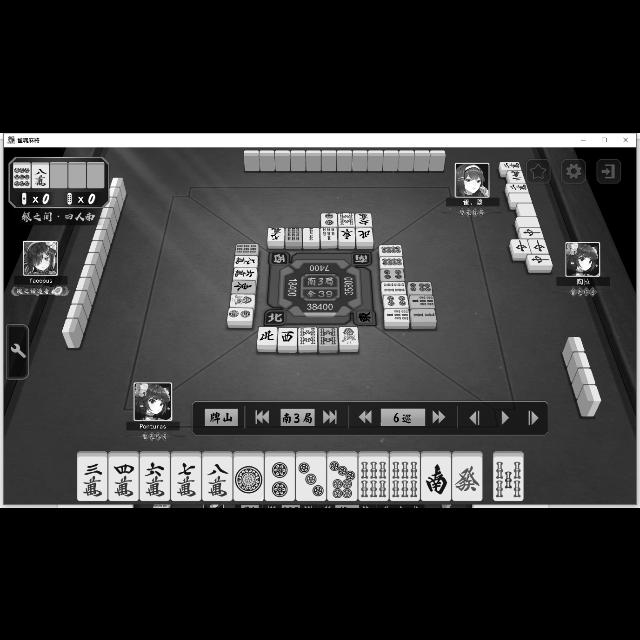1p: (234, 456, 264, 500)
1s: (340, 326, 358, 344), (229, 294, 255, 306)
2m: (505, 182, 529, 192), (506, 170, 526, 182), (500, 161, 522, 169)
2p: (265, 457, 295, 501), (227, 306, 253, 320), (320, 212, 338, 225)
2s: (410, 309, 436, 321), (303, 228, 319, 240)
3m: (77, 456, 107, 499)
3p: (296, 456, 326, 499)
4m: (108, 456, 138, 500)
4p: (384, 294, 408, 308), (381, 268, 405, 280)
4s: (380, 281, 406, 293)
5s: (494, 456, 524, 500)
6m: (140, 456, 170, 499), (232, 268, 258, 278), (355, 212, 373, 225)
6p: (408, 281, 432, 293)
6s: (390, 456, 420, 502), (358, 456, 388, 500)
7m: (170, 456, 202, 500)
7p: (328, 456, 358, 500)
7s: (384, 308, 410, 322), (410, 295, 434, 307), (321, 226, 337, 240)
8m: (202, 456, 232, 499), (32, 164, 49, 186)
8p: (381, 255, 404, 267), (379, 243, 403, 254)
8s: (318, 327, 338, 345), (298, 328, 318, 344), (338, 212, 354, 226)
9m: (234, 254, 256, 266), (268, 226, 284, 240)
9p: (13, 163, 29, 187)
9s: (236, 242, 258, 254), (286, 227, 302, 241)
chun: (528, 238, 548, 254), (519, 226, 545, 238), (527, 253, 553, 264), (510, 239, 530, 253)
haku: (517, 202, 537, 216), (515, 216, 541, 226), (510, 192, 532, 202)
hatsu: (452, 458, 482, 500)
nan: (421, 456, 451, 500)
pe: (258, 326, 276, 344), (356, 228, 374, 240)
sha: (278, 328, 296, 344)
tou: (231, 280, 255, 292), (338, 228, 354, 240)
